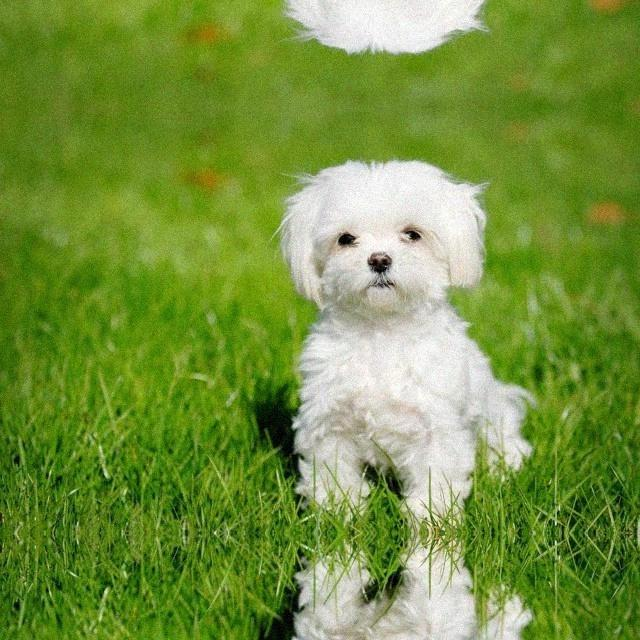dog: (249, 140, 519, 338), (249, 0, 519, 71)
